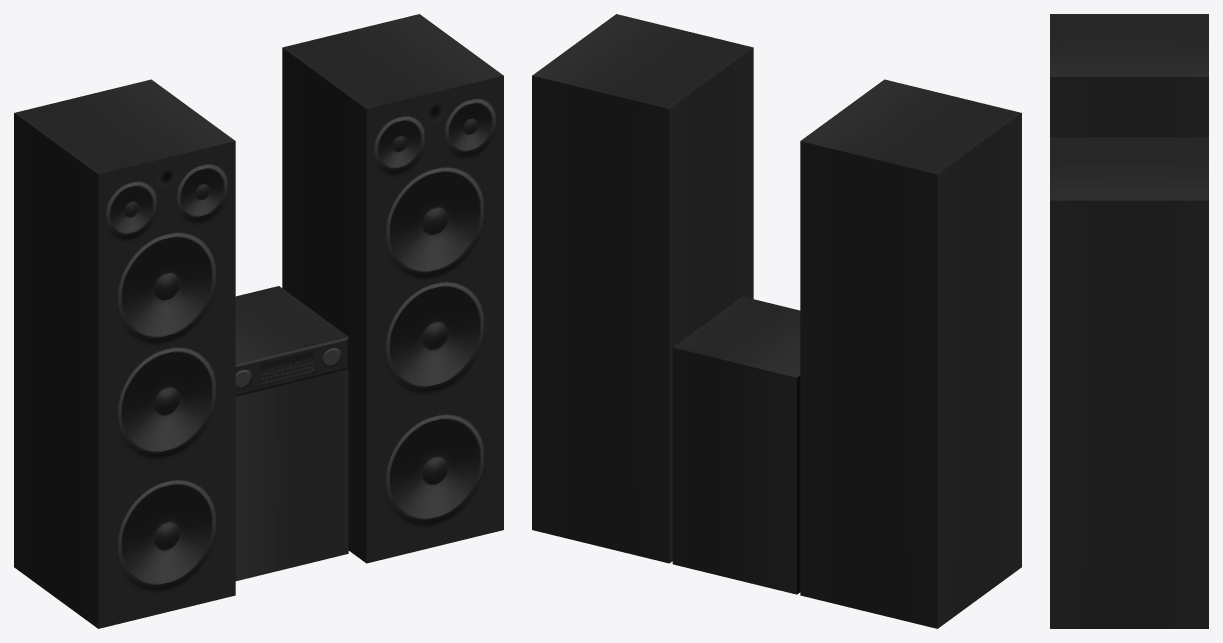
The model's file is InteriorItem_007.fbx.
3 renders of one model, left to right at view 1: azimuth 30°, elevation 25°; view 2: azimuth 150°, elevation 25°; view 3: azimuth 270°, elevation 25°, orthographic. The views are drawn at different scales.
Parts seen in each view (by area): view 1: InteriorItem_007; view 2: InteriorItem_007; view 3: InteriorItem_007.
Part boxes in pixels (left/top/right/bottom): InteriorItem_007: left=14, top=14, right=503, bottom=628; InteriorItem_007: left=532, top=14, right=1021, bottom=628; InteriorItem_007: left=1050, top=14, right=1208, bottom=628.
Bounding box in the file's own units: 97.85 × 105 × 35.2.
